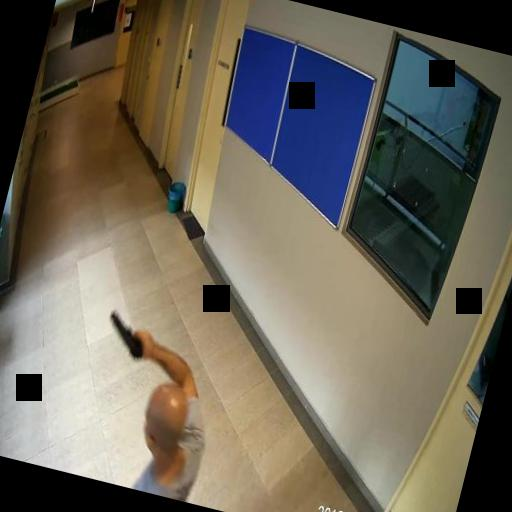Handgun: (100, 306, 154, 360)
